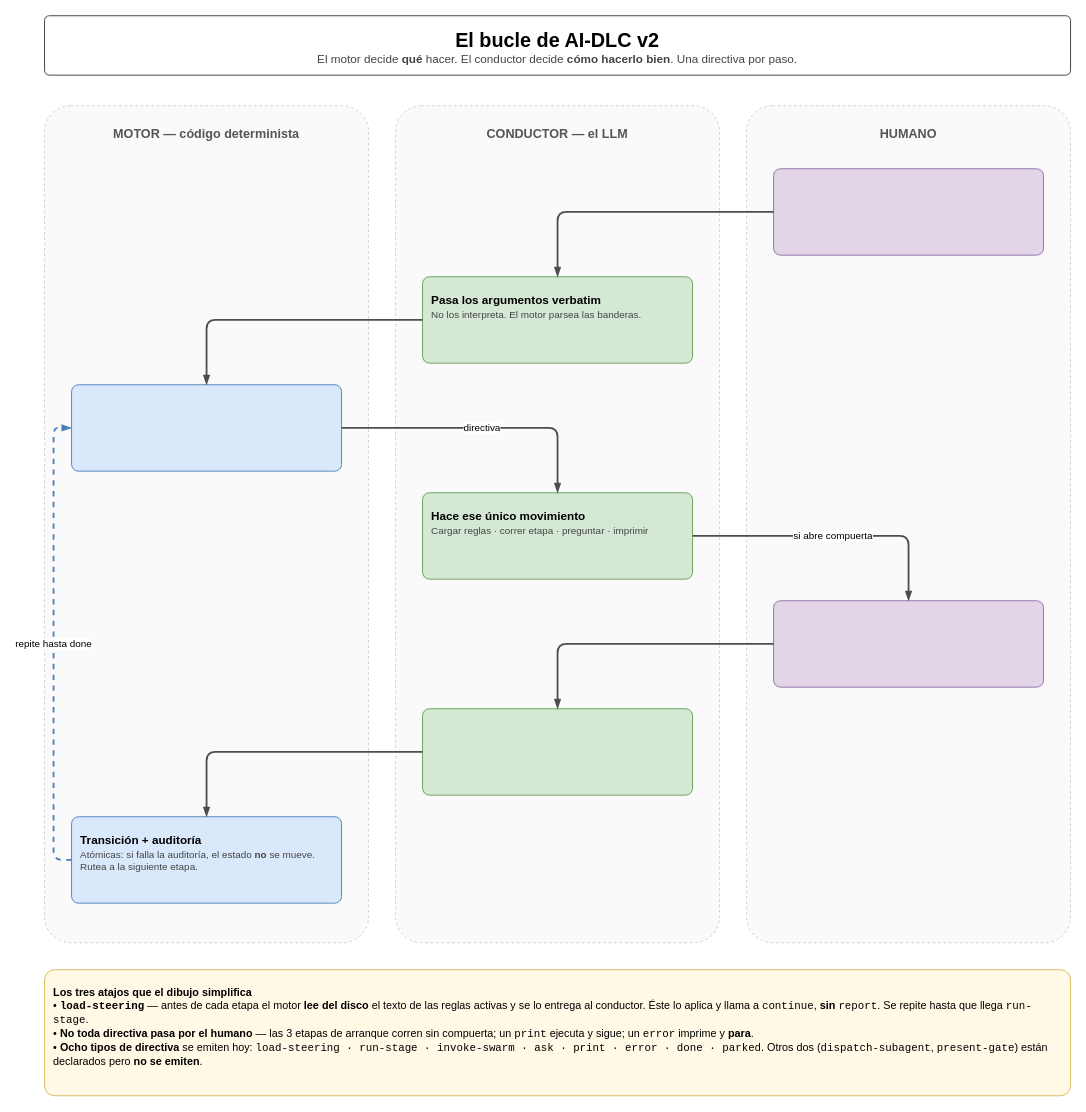
Image size: 1086x1112. Some labels were removed from this diagram. The shapes that lost their labels are listed below. From the top down, each one's centre as x and y in pixels, then its label:
At [908,211]: "Escribe /aidlc «construir el API de inventario»".
At [206,427]: "next Lee aidlc-state.md + stage-graph.json . Emite una directiva. No muta nada.".
At [908,643]: "Responde en la compuerta Aprobar · Pedir cambios".
At [557,751]: "report Informa el resultado. Nunca escribe el estado él mismo.".
